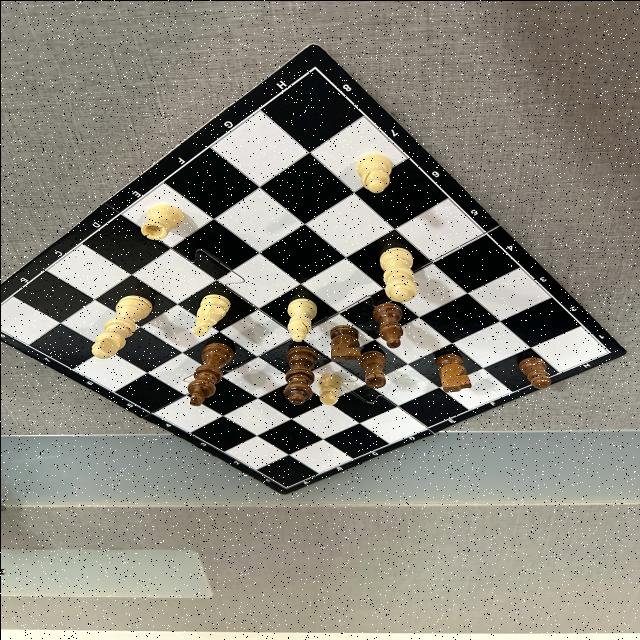Black-Bishop: (371, 302, 402, 348)
Black-King: (187, 342, 233, 406)
Black-Knight: (434, 353, 470, 391), (328, 324, 361, 361)
Black-Pawn: (517, 356, 550, 388)
Black-Queen: (282, 345, 318, 404)
Black-Rook: (358, 350, 386, 388)
White-Bishop: (355, 152, 391, 192), (286, 298, 316, 342)
White-King: (90, 294, 152, 358)
White-Knight: (192, 293, 230, 335)
White-Pawn: (318, 372, 342, 404)
White-Queen: (379, 246, 417, 302)
White-Rook: (140, 203, 183, 239)
